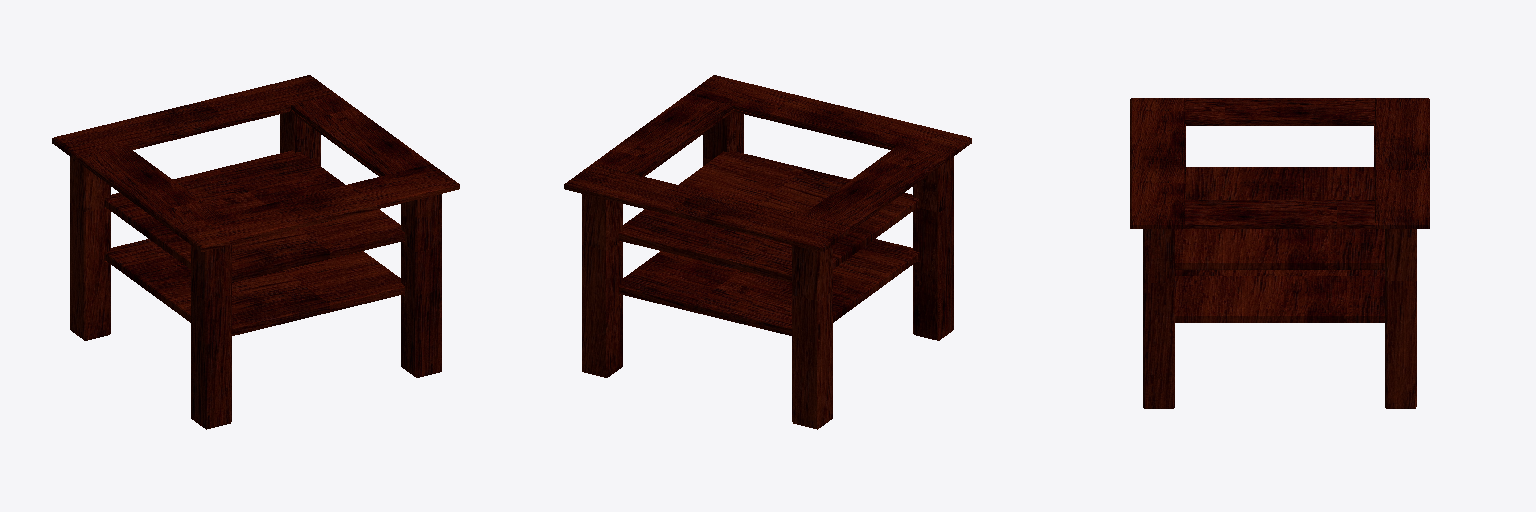
3 views of the same model, side by side, from view 1: azimuth 30°, elevation 25°; view 2: azimuth 150°, elevation 25°; view 3: azimuth 270°, elevation 25° (orthographic).
Parts seen in each view (by area): view 1: nightstand; view 2: nightstand; view 3: nightstand.
Boxes of the visible parts, x1=… form: nightstand: x1=52, y1=75, x2=459, y2=429; nightstand: x1=564, y1=75, x2=971, y2=429; nightstand: x1=1130, y1=98, x2=1429, y2=408.
Size of the model in its own units: 0.6611 by 0.4671 by 0.6611.
1 materials, 1 textured.